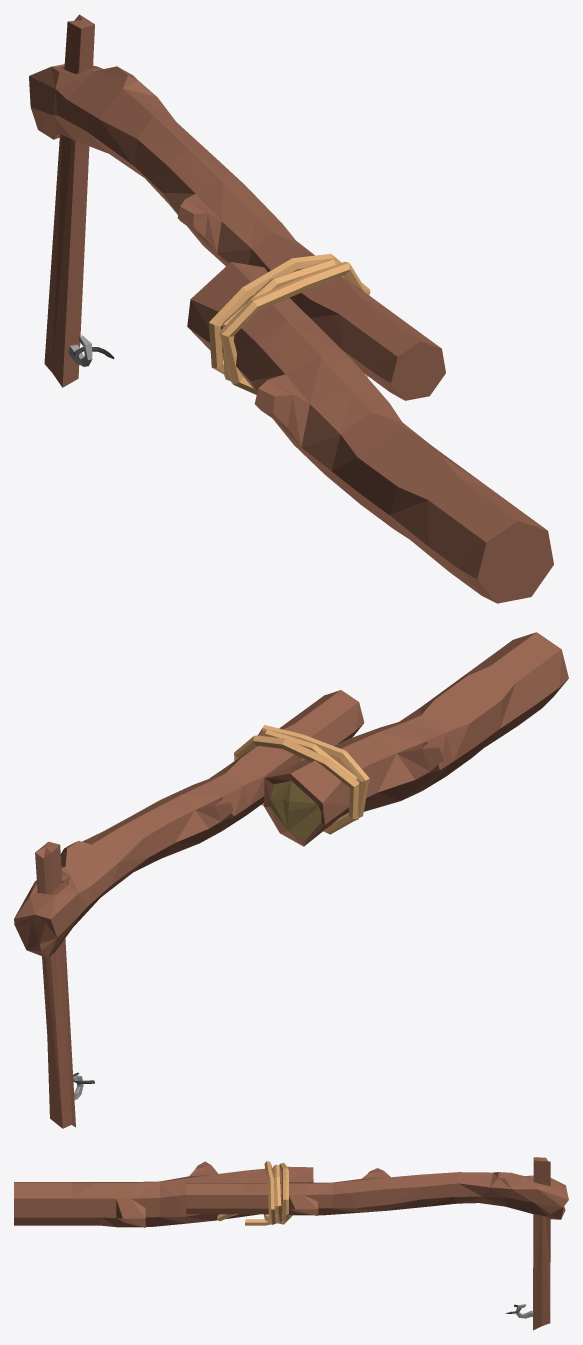
Rendered from LanternWithNoLamp.fbx.
3 renders of one model, top to bottom at view 1: azimuth 30°, elevation 25°; view 2: azimuth 150°, elevation 25°; view 3: azimuth 270°, elevation 25°, orthographic. The views are drawn at different scales.
Parts seen in each view (by area): view 1: LanternWithoutLamp; view 2: LanternWithoutLamp; view 3: LanternWithoutLamp.
Part boxes in pixels (left/top/right/bottom): LanternWithoutLamp: left=29, top=14, right=553, bottom=603; LanternWithoutLamp: left=14, top=632, right=568, bottom=1128; LanternWithoutLamp: left=14, top=1157, right=568, bottom=1330.
Size of the model in its own units: 199 by 1010 by 356.
